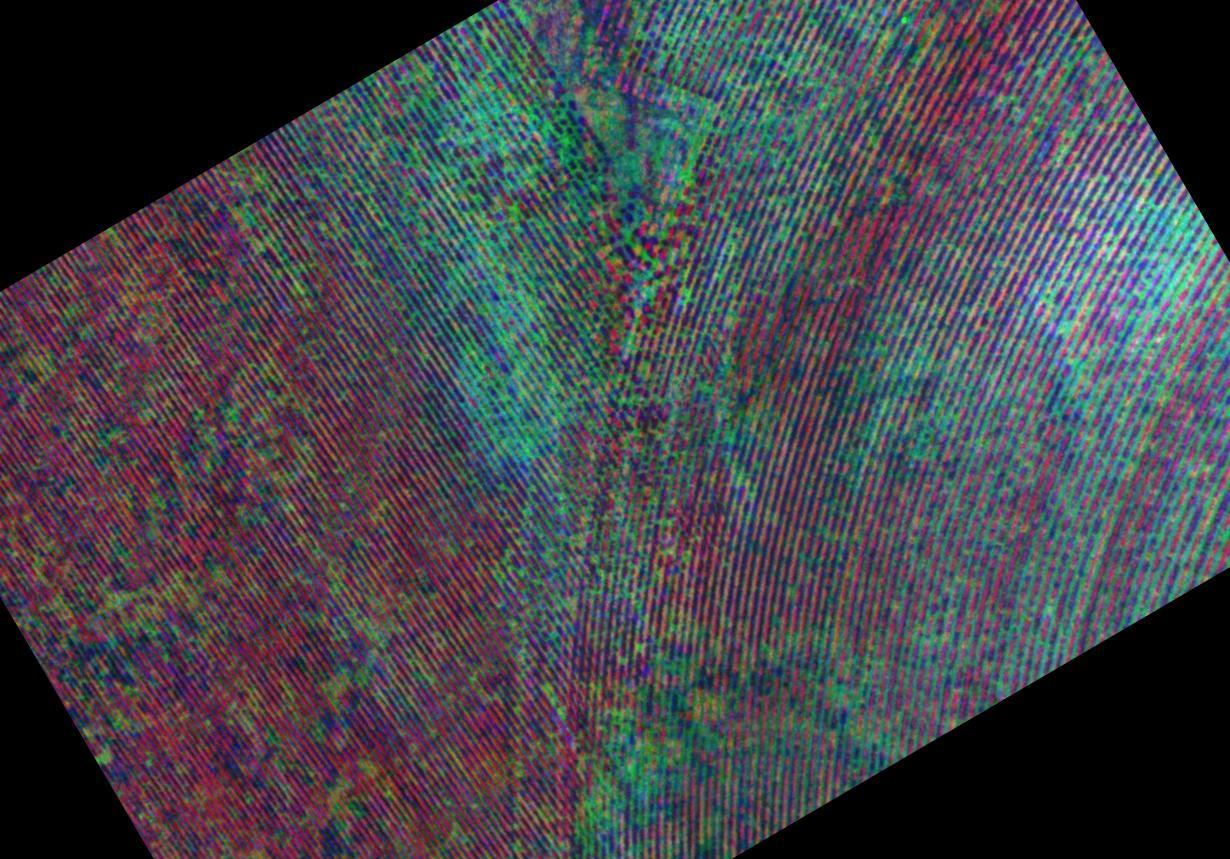dc: (581, 710, 713, 859), (873, 338, 1003, 480), (451, 290, 562, 429), (388, 90, 509, 217), (1091, 213, 1204, 323), (596, 63, 693, 170)
